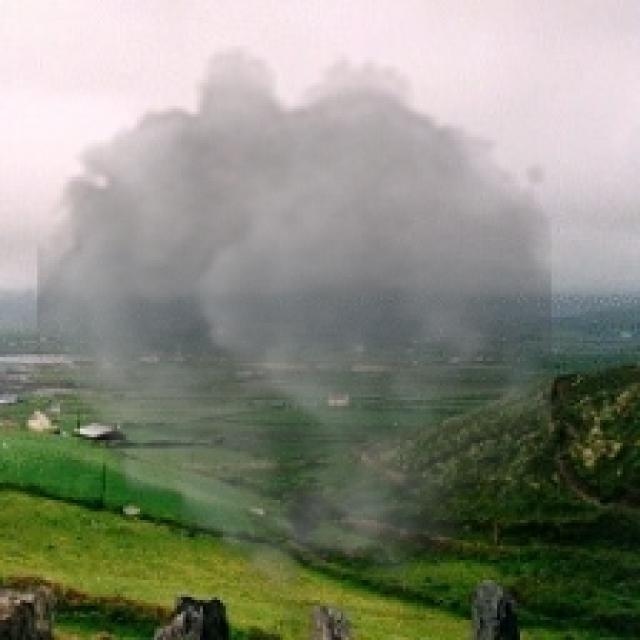Smoke: (37, 46, 552, 612)
